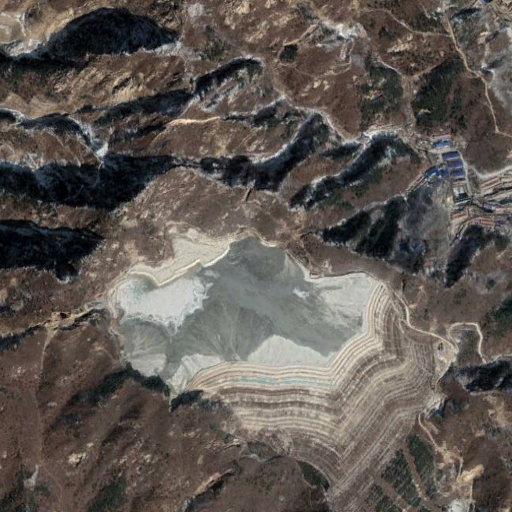tp: (107, 229, 435, 479)
